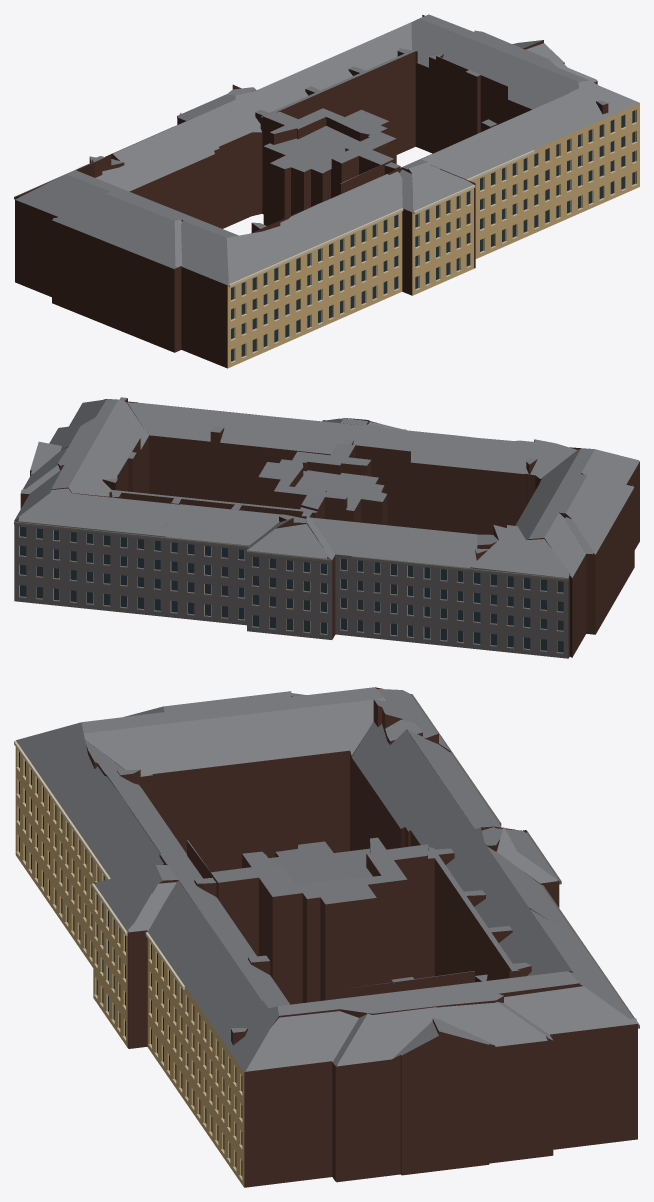
Rendered from recipe-large-kattenburg-wings-164938.glb.
3 views of the same model, one above another, from view 1: azimuth 30°, elevation 25°; view 2: azimuth 150°, elevation 25°; view 3: azimuth 270°, elevation 25° (orthographic). The views are drawn at different scales.
Visible parts, largest first — view 1: kattenburg-wings-164938; view 2: kattenburg-wings-164938; view 3: kattenburg-wings-164938.
Boxes of the visible parts, x1,y1,x2,y2 form: kattenburg-wings-164938: (14, 14, 639, 368); kattenburg-wings-164938: (14, 397, 639, 658); kattenburg-wings-164938: (14, 687, 639, 1187).
Bounding box in the file's own units: 112 × 21.18 × 78.07.
